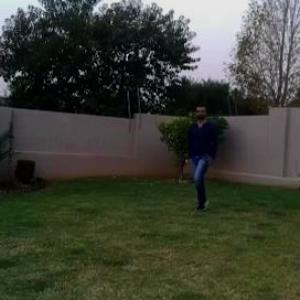follow: (186, 100, 219, 209)
